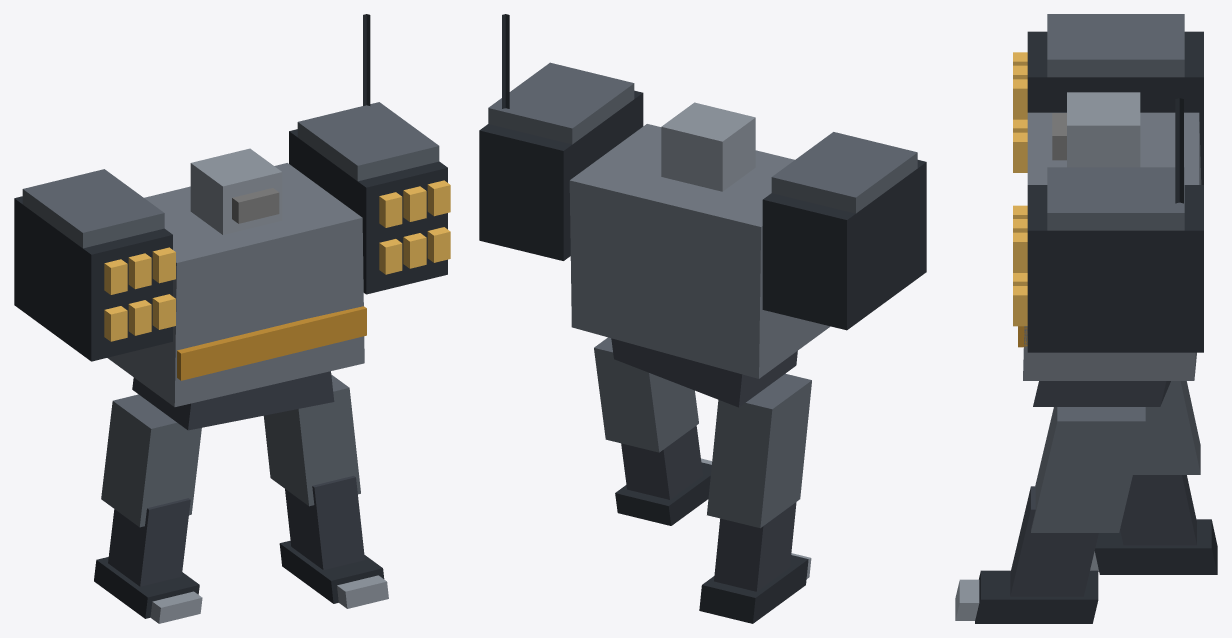
The model's file is javelin-walk-1.obj.
3 views of the same model, side by side, from view 1: azimuth 30°, elevation 25°; view 2: azimuth 150°, elevation 25°; view 3: azimuth 270°, elevation 25° (orthographic). The views are drawn at different scales.
Parts seen in each view (by area): view 1: javelin-walk-1; view 2: javelin-walk-1; view 3: javelin-walk-1.
Part boxes in pixels (x1,y1,x2,y2): javelin-walk-1: [14, 14, 450, 623]; javelin-walk-1: [479, 14, 926, 623]; javelin-walk-1: [955, 14, 1217, 623].
Bounding box in the file's own units: 1.92 × 2.65 × 1.07.
